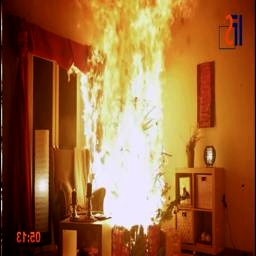fire: (69, 2, 199, 229)
